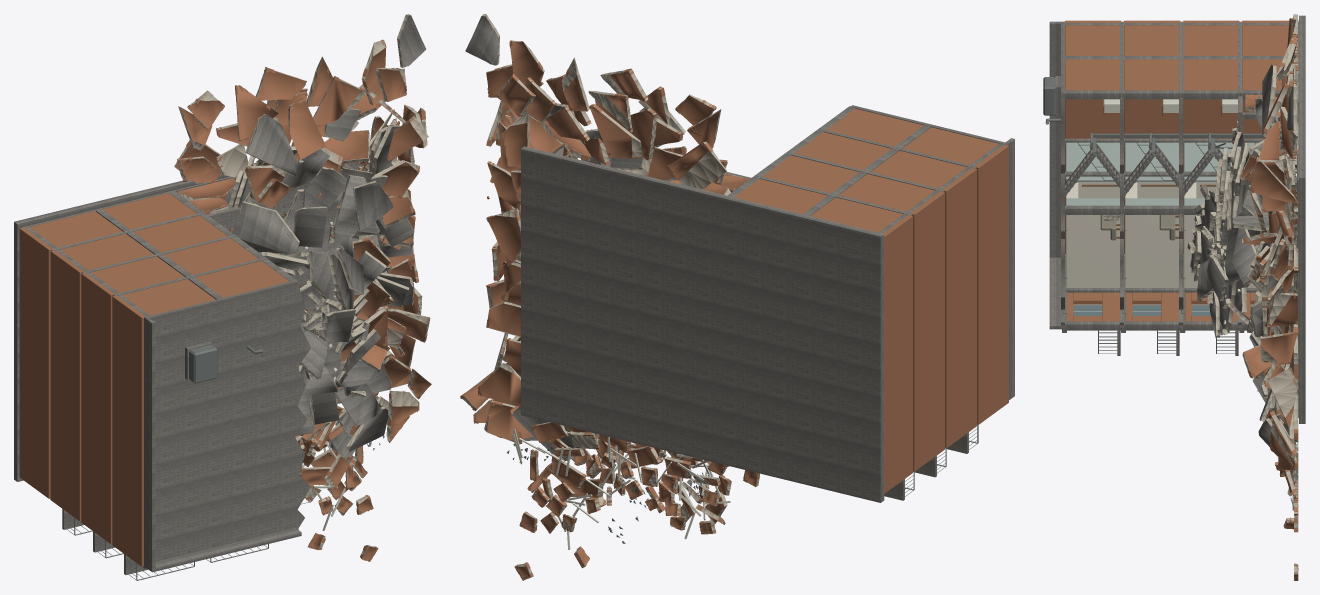
The model's file is apartment.glb.
3 renders of one model, left to right at view 1: azimuth 30°, elevation 25°; view 2: azimuth 150°, elevation 25°; view 3: azimuth 270°, elevation 25°, orthographic. The views are drawn at different scales.
Visible parts, largest first — view 1: Apartment_Concrete, Apartment_Brick, Apartment_Steel; view 2: Apartment_Concrete, Apartment_Brick, Apartment_Ivory; view 3: Apartment_Brick, Apartment_Concrete, Apartment_Plaster, Apartment_Paint, Apartment_Steel, Apartment_Ivory, Apartment_Glass, Apartment_Fabric, Apartment_Wood.
Part boxes in pixels (x1,y1,x2,y2): Apartment_Concrete: (14, 14, 426, 574); Apartment_Brick: (19, 39, 431, 566); Apartment_Steel: (65, 297, 314, 580); Apartment_Concrete: (465, 14, 1014, 502); Apartment_Brick: (460, 40, 1008, 580); Apartment_Ivory: (512, 428, 730, 549); Apartment_Brick: (1065, 14, 1298, 580); Apartment_Concrete: (1049, 15, 1305, 446); Apartment_Plaster: (1066, 121, 1296, 329); Apartment_Paint: (1066, 142, 1257, 205); Apartment_Steel: (1043, 77, 1264, 353); Apartment_Ivory: (1074, 99, 1298, 510); Apartment_Glass: (1073, 305, 1297, 477); Apartment_Fabric: (1100, 215, 1175, 240); Apartment_Wood: (1082, 99, 1221, 238).
Size of the model in its own units: 24.24 by 30.19 by 13.98.
Materials: 20 (2 with a texture image).
